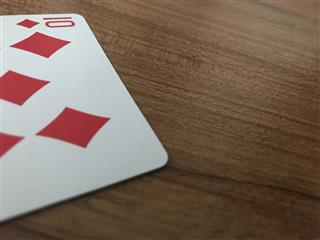TenOfDiamonds: (1, 11, 169, 225)
